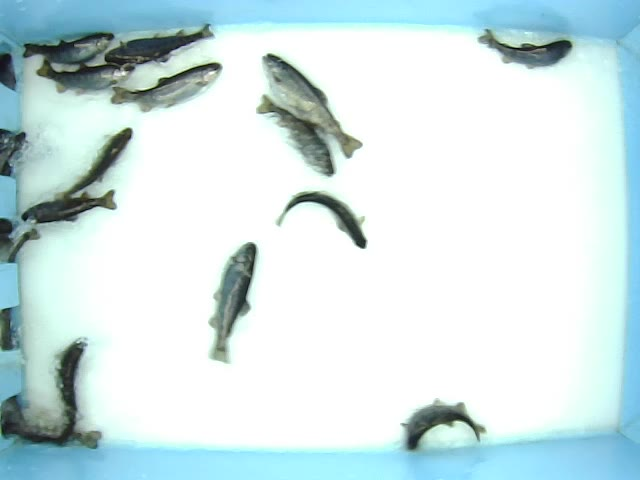fish: (260, 50, 365, 161), (256, 90, 336, 177), (207, 237, 259, 366), (49, 125, 135, 199), (110, 62, 224, 113), (276, 191, 371, 250), (104, 20, 217, 66), (400, 396, 488, 455), (50, 334, 90, 453), (476, 27, 574, 71), (21, 185, 118, 225), (36, 61, 137, 96), (24, 29, 116, 65)
